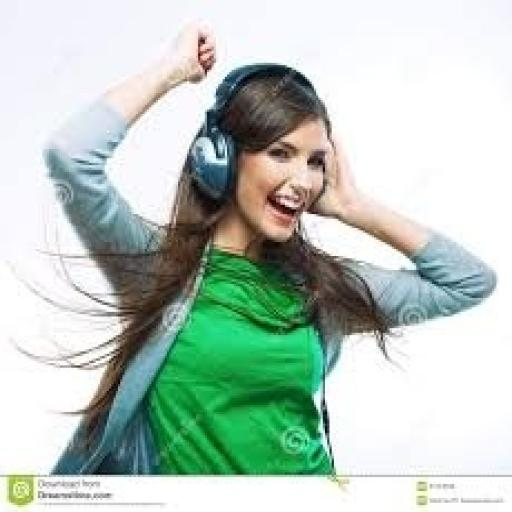listening_to_music: (9, 14, 499, 477), (185, 60, 318, 210)
